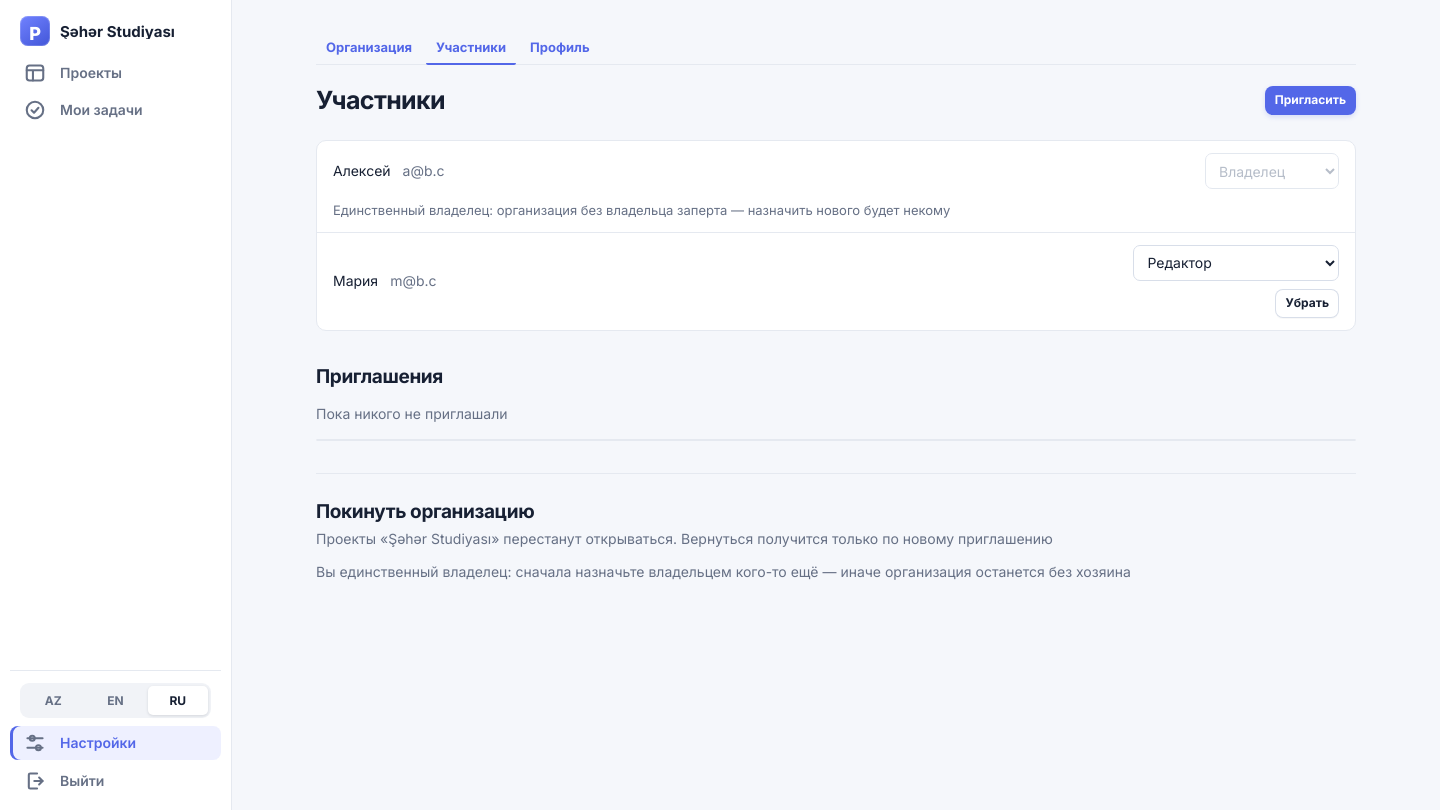
Scenario: экран участников › выпущенная ссылка показывается сразу и с предупреждением, что второй раз её не будет
The width and height of the screenshot is (1440, 810).
Click the button "Пригласить" at (1310, 100), box [1265, 86, 1356, 115]
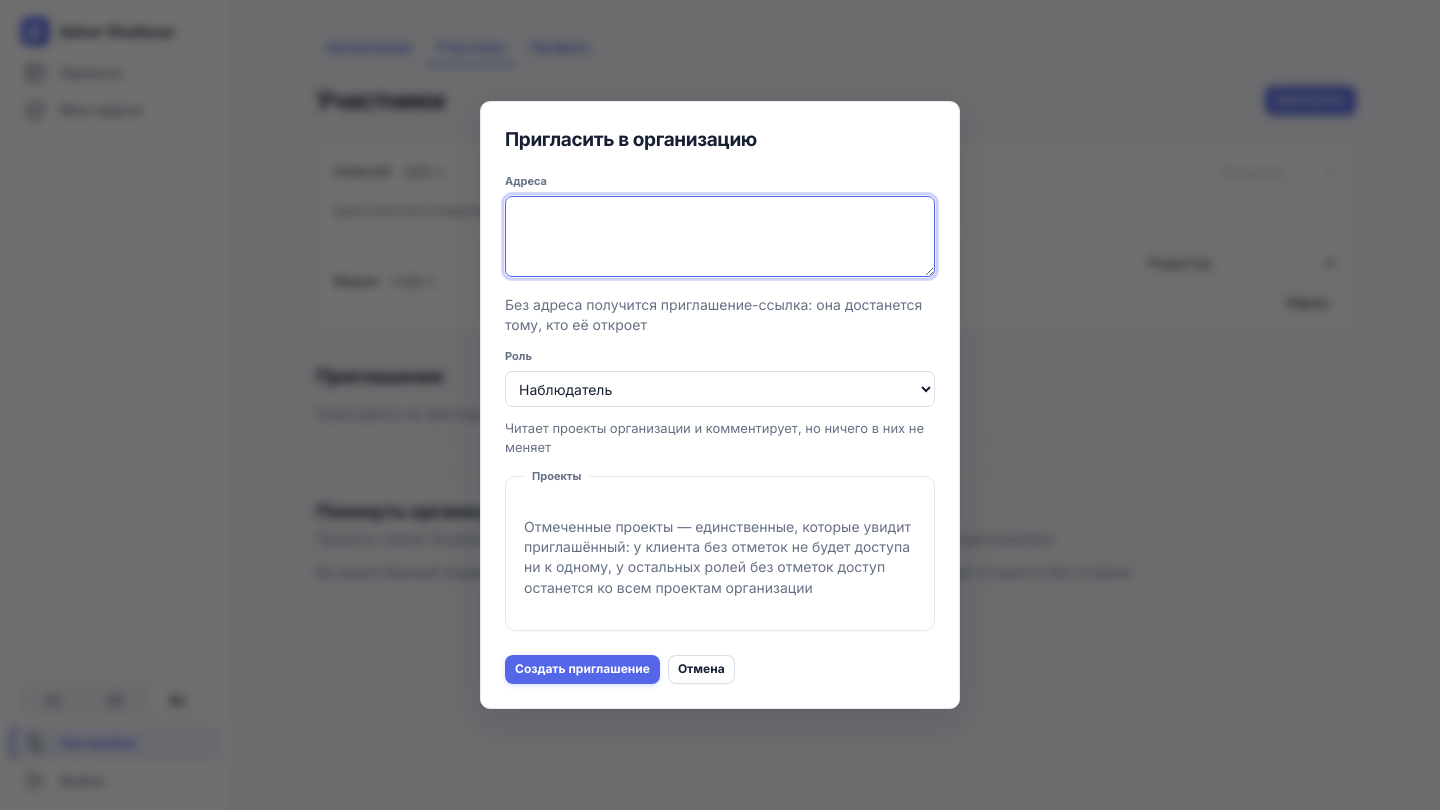
Type "guest@example.com" into the text box labelled "Адреса" at (720, 236), box [505, 196, 935, 276]
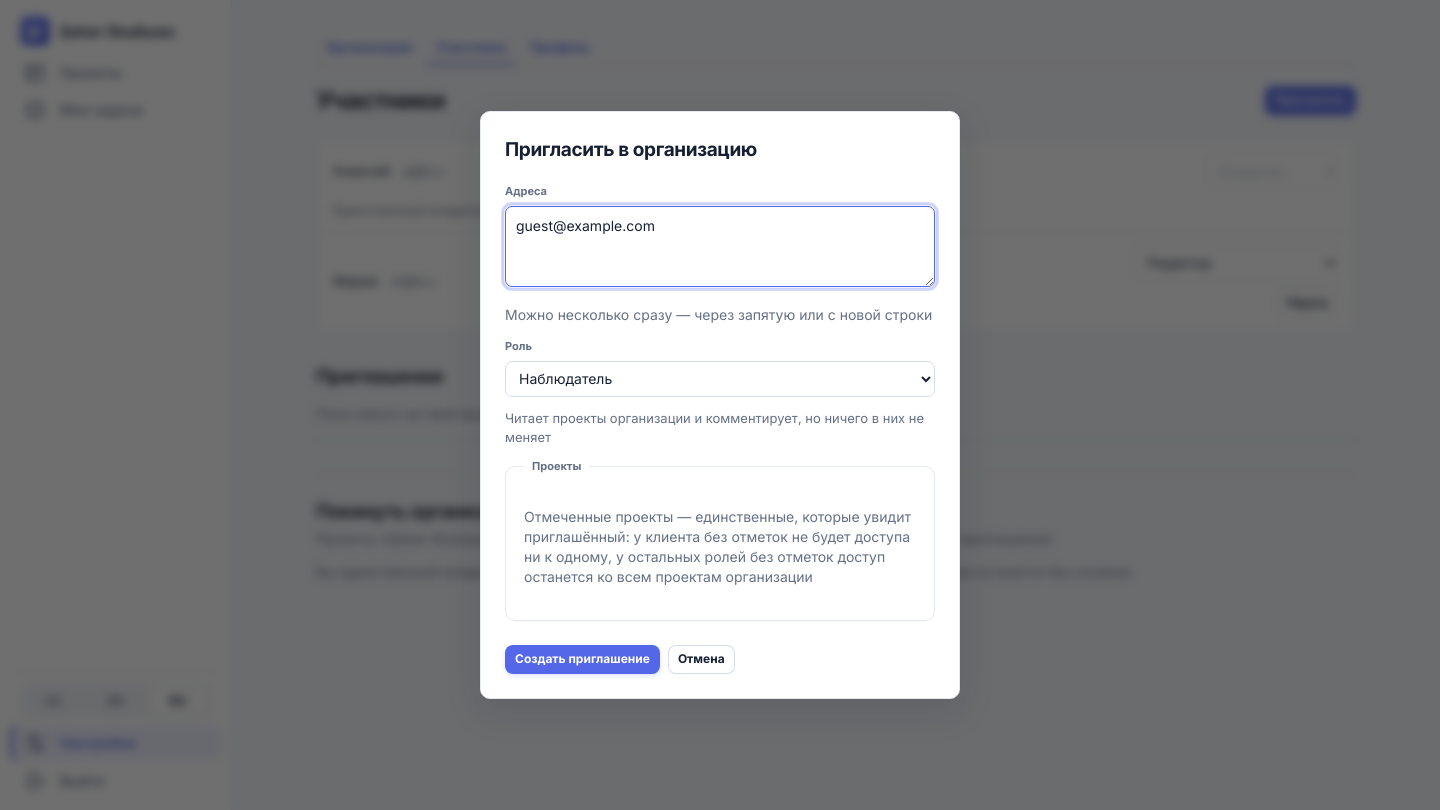
Click the button "Создать приглашение" at (582, 659), box [505, 645, 660, 674]
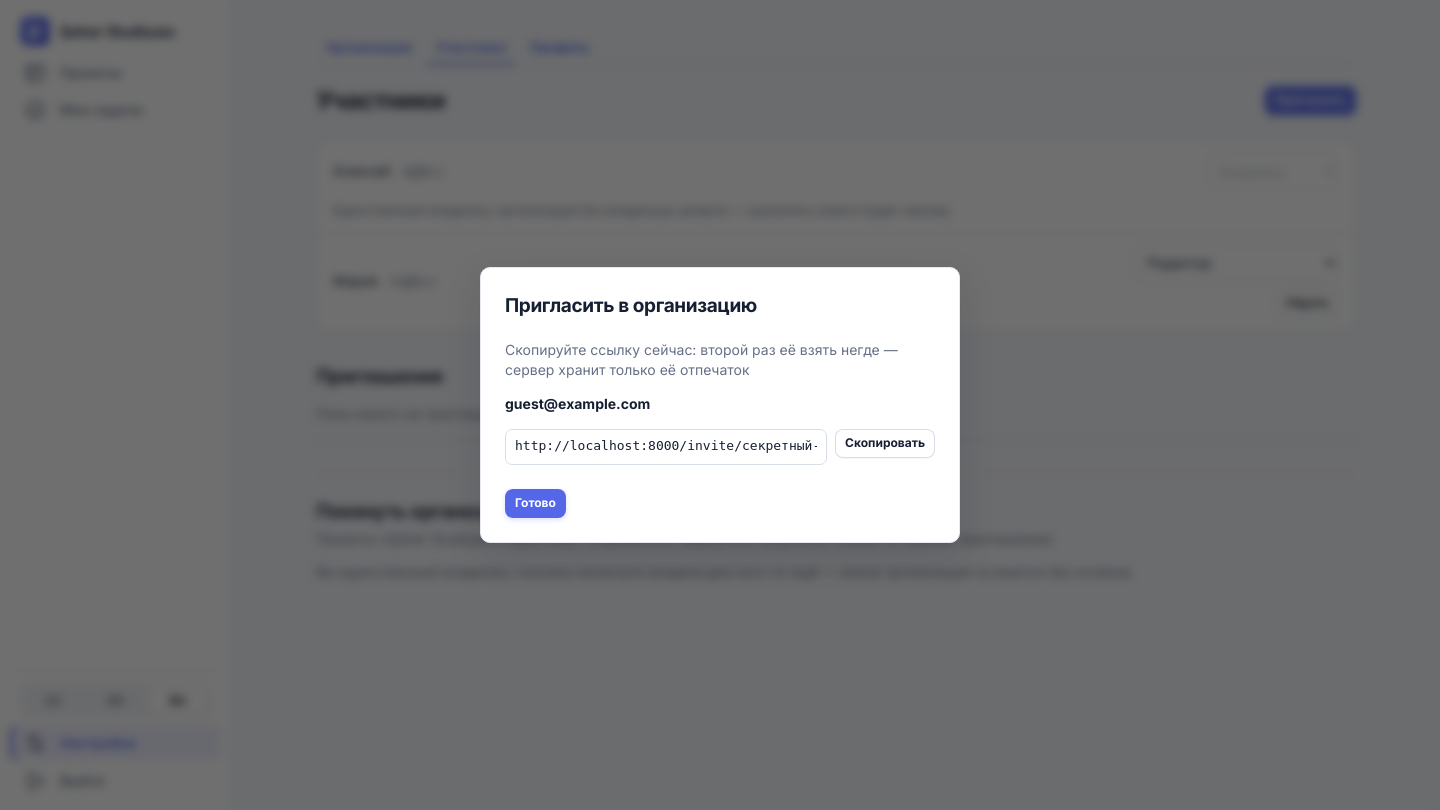
expect the field named "ссылка приглашения" holds "http://localhost:8000/invite/секретный-токен": met, box [505, 429, 827, 465]
expect the text "второй раз её взять негде" is shown: met, box [505, 341, 898, 378]
